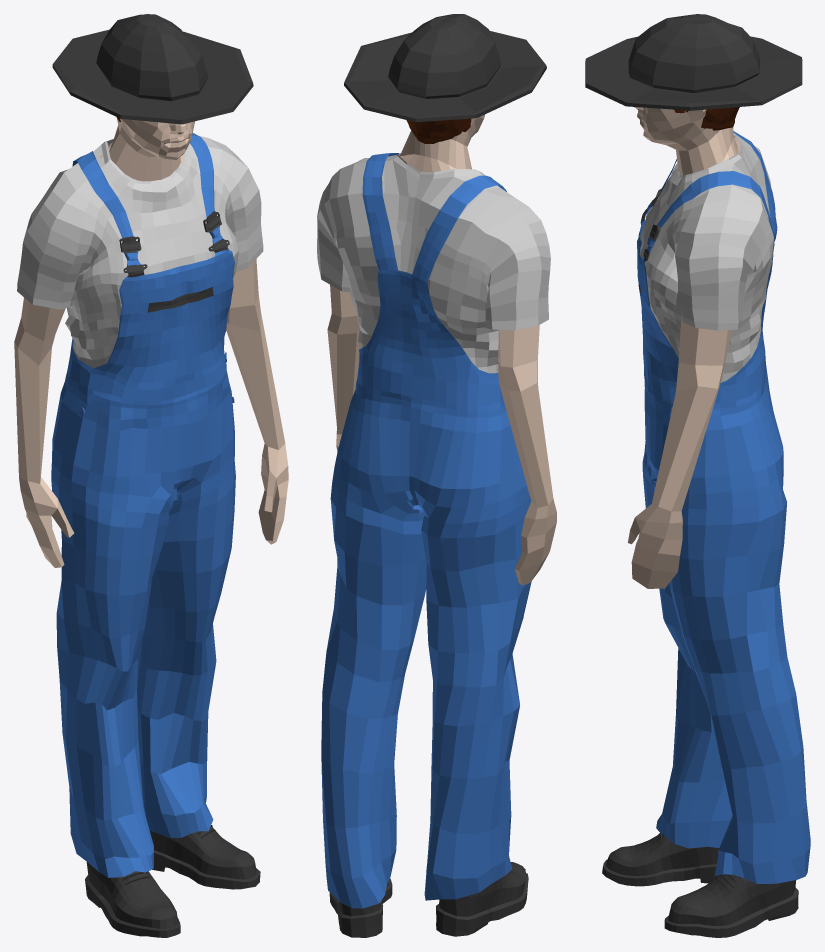
File: Balduin.fbx
The picture shows the model from 3 angles, left to right: view 1: azimuth 30°, elevation 25°; view 2: azimuth 150°, elevation 25°; view 3: azimuth 270°, elevation 25°; orthographic projection. The views are drawn at different scales.
Parts seen in each view (by area): view 1: Worker, Hat; view 2: Worker, Hat; view 3: Worker, Hat.
Part boxes in pixels (box(x1,y1,x2,y2)): Worker: box(14, 117, 288, 937); Hat: box(52, 14, 253, 124); Worker: box(317, 114, 556, 937); Hat: box(344, 14, 546, 122); Worker: box(602, 107, 810, 937); Hat: box(585, 14, 802, 110).
Size of the model in its own units: 51.7 by 184 by 43.18.
